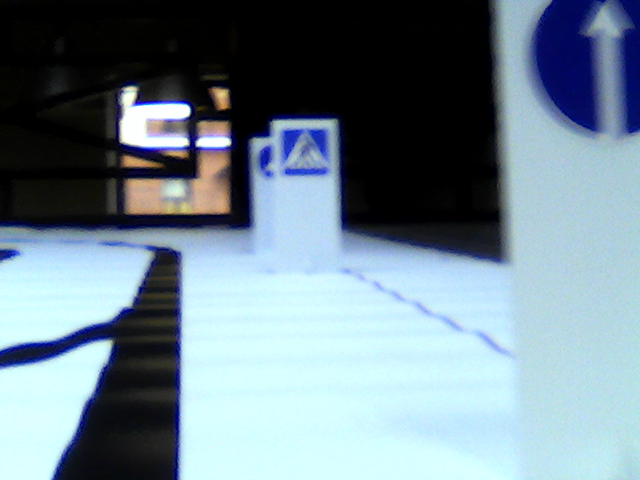forw: (533, 1, 639, 146)
pesh: (280, 130, 331, 175)
